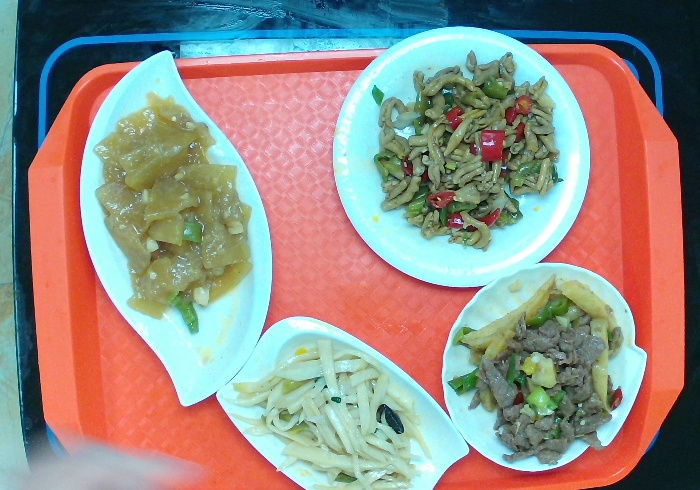RJxy-Bei_Ke_Wan: (437, 260, 651, 475)
RJxy-Jian_Jiao_Fang_Die: (218, 312, 474, 490)
RJxy-Jian_Jiao_Pan: (76, 42, 283, 411)
RJxy-Yuan_Pan: (327, 23, 598, 293)
